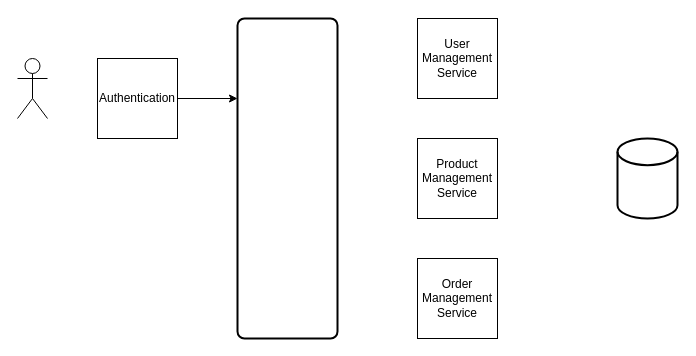
The diagram is 696 pixels wide and 356 high, and some of its shapes have lost their labels. The shapes that lost their labels are listed below. From the top down, each one's centre as x and y in pixels, then its label:
the point at 32,88: User
the point at 287,178: API Gateway
